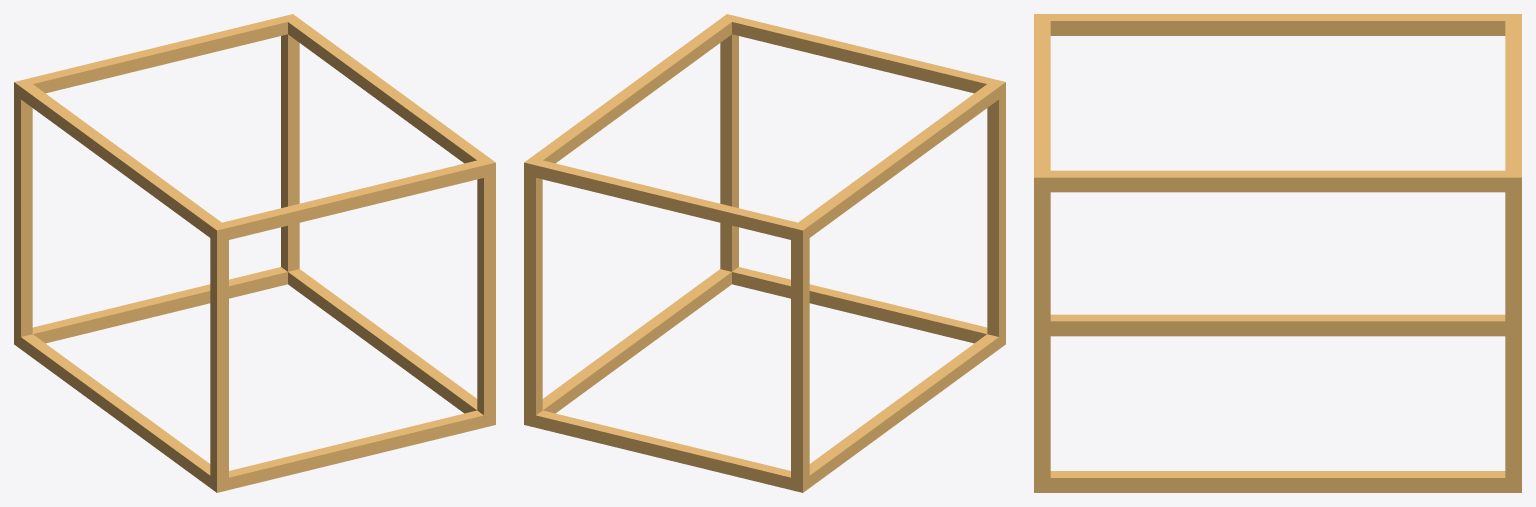
File: helmets.glb
3 renders of one model, left to right at view 1: azimuth 30°, elevation 25°; view 2: azimuth 150°, elevation 25°; view 3: azimuth 270°, elevation 25°, orthographic. The views are drawn at different scales.
Parts seen in each view (by area): view 1: box_0; view 2: box_0; view 3: box_0.
Part boxes in pixels (x1=…): box_0: x1=14, y1=14, x2=495, y2=492; box_0: x1=524, y1=14, x2=1005, y2=492; box_0: x1=1034, y1=14, x2=1521, y2=492.
Size of the model in its own units: 0.2352 by 0.2115 by 0.2964.
